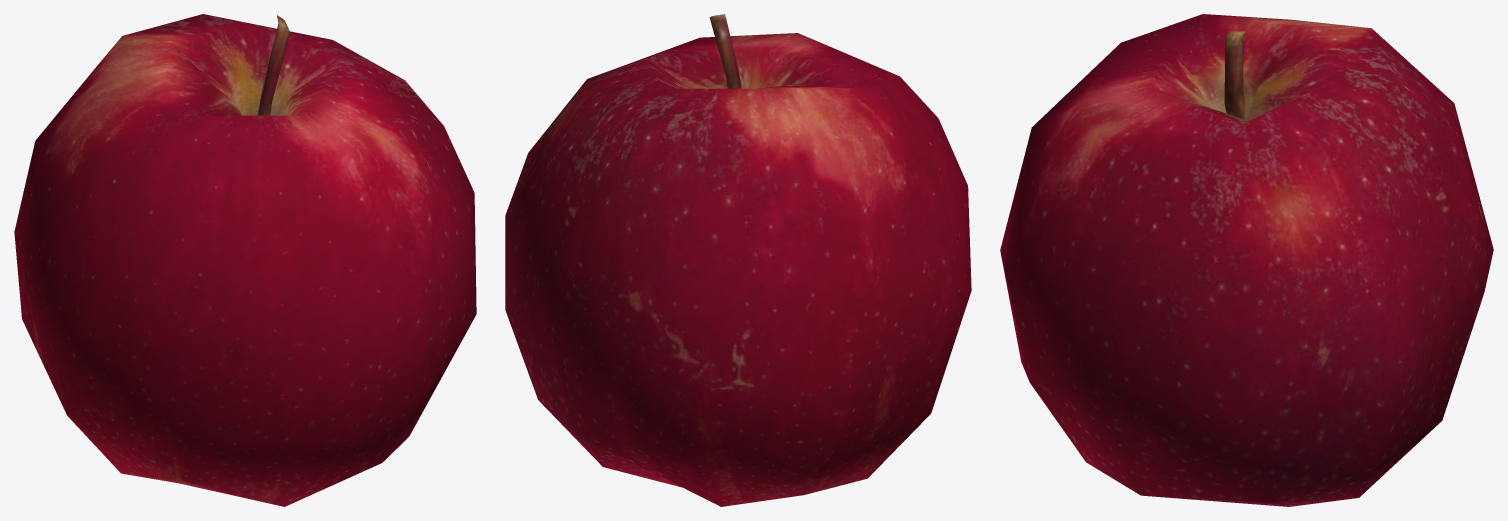
File: tgzoahbpa_tier_3.gltf
The picture shows the model from 3 angles, left to right: view 1: azimuth 30°, elevation 25°; view 2: azimuth 150°, elevation 25°; view 3: azimuth 270°, elevation 25°; orthographic projection. The views are drawn at different scales.
Parts seen in each view (by area): view 1: tgzoahbpa_LOD0_TIER3_000; view 2: tgzoahbpa_LOD0_TIER3_000; view 3: tgzoahbpa_LOD0_TIER3_000.
Boxes of the visible parts, left/top/right/bottom form: tgzoahbpa_LOD0_TIER3_000: left=14, top=14, right=476, bottom=506; tgzoahbpa_LOD0_TIER3_000: left=505, top=14, right=971, bottom=506; tgzoahbpa_LOD0_TIER3_000: left=1000, top=14, right=1493, bottom=506.
Bounding box in the file's own units: 0.0766 × 0.0802 × 0.0774.
Materials: 1 (1 with a texture image).
